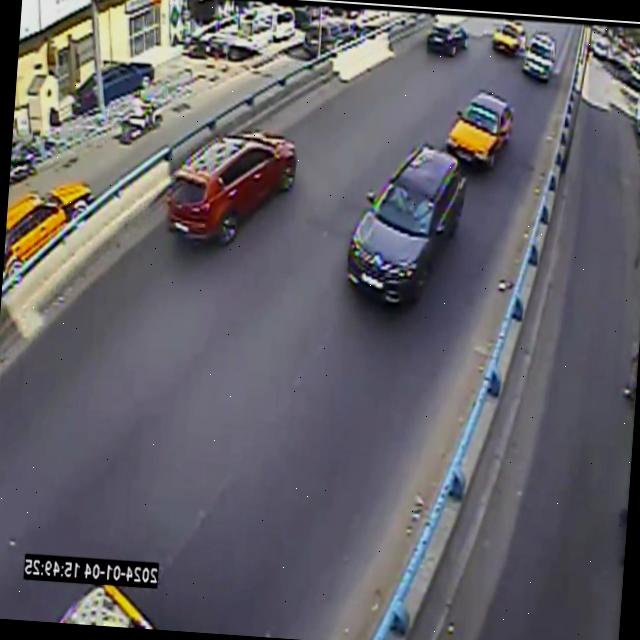car: (347, 144, 467, 302), (167, 130, 296, 244), (3, 182, 93, 277), (446, 91, 513, 167), (60, 584, 153, 628), (522, 33, 556, 81), (427, 24, 468, 56), (492, 21, 526, 54)
